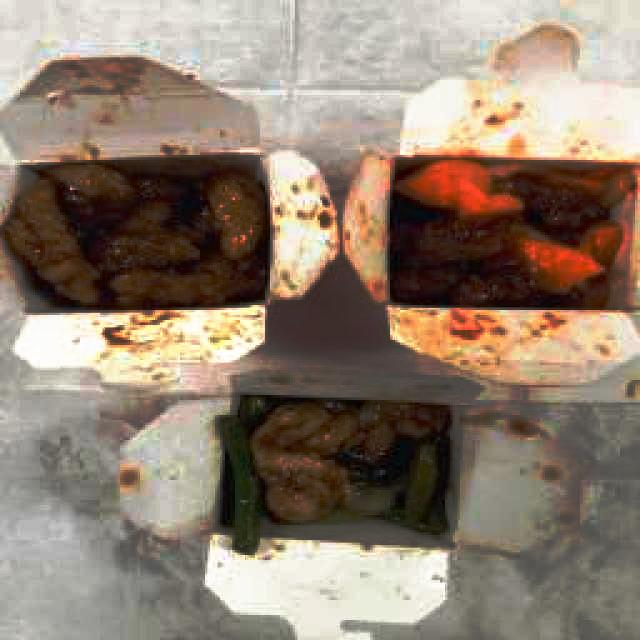Beijing Beef: (391, 154, 630, 304)
Kung Pao Chicken: (3, 158, 269, 310)
